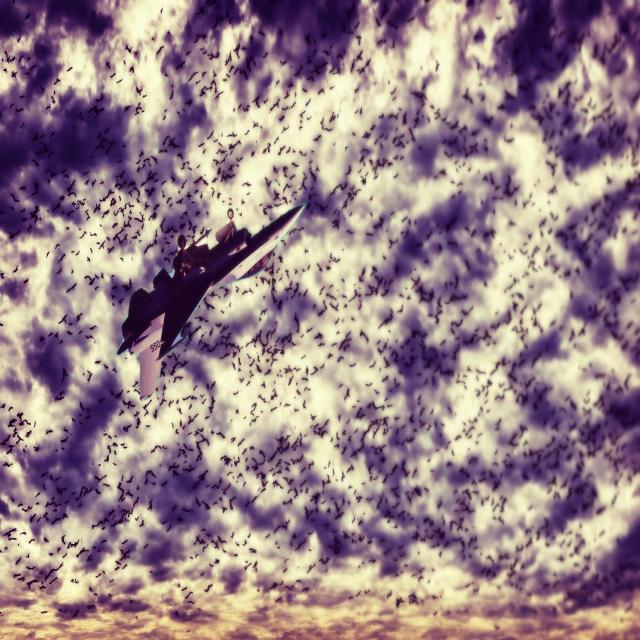airplane: (116, 200, 307, 400)
